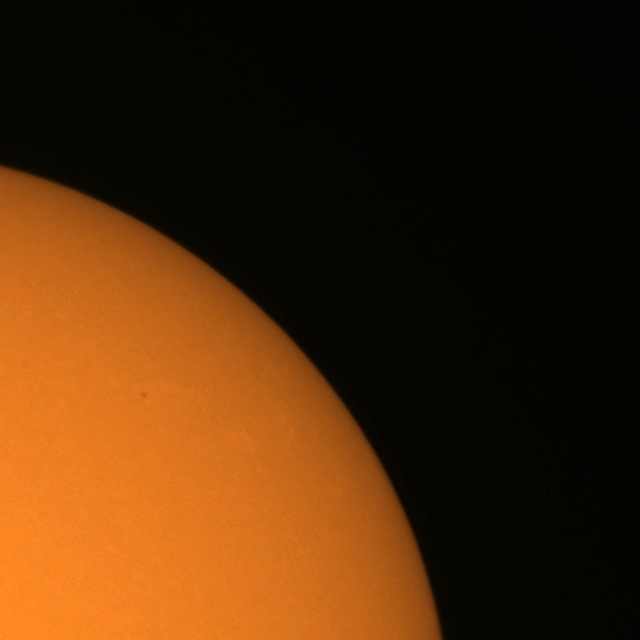sunspot: (139, 390, 149, 401)
